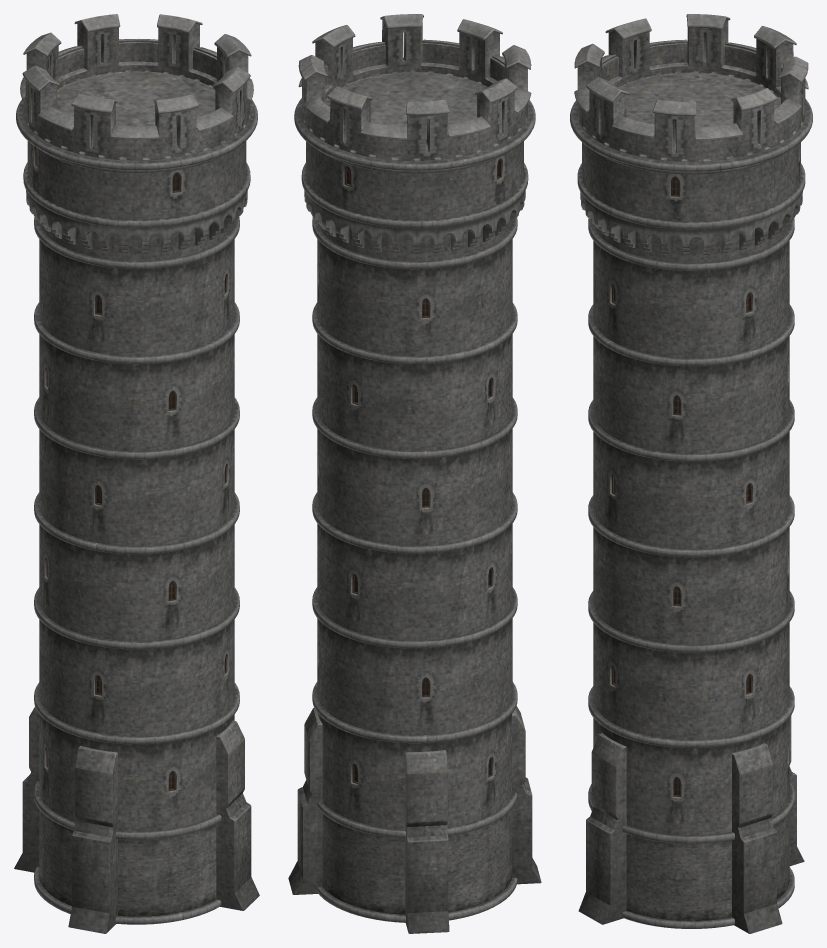
The model's file is Castle_Tower_Round_F3.fbx.
3 views of the same model, side by side, from view 1: azimuth 30°, elevation 25°; view 2: azimuth 150°, elevation 25°; view 3: azimuth 270°, elevation 25° (orthographic).
Parts seen in each view (by area): view 1: Castle_Tower_Round_F.003; view 2: Castle_Tower_Round_F.003; view 3: Castle_Tower_Round_F.003.
Part boxes in pixels (x1,y1,x2,y2): Castle_Tower_Round_F.003: (14,14,259,933); Castle_Tower_Round_F.003: (288,14,541,933); Castle_Tower_Round_F.003: (570,14,812,933).
Size of the model in its own units: 742 by 2791 by 742.
